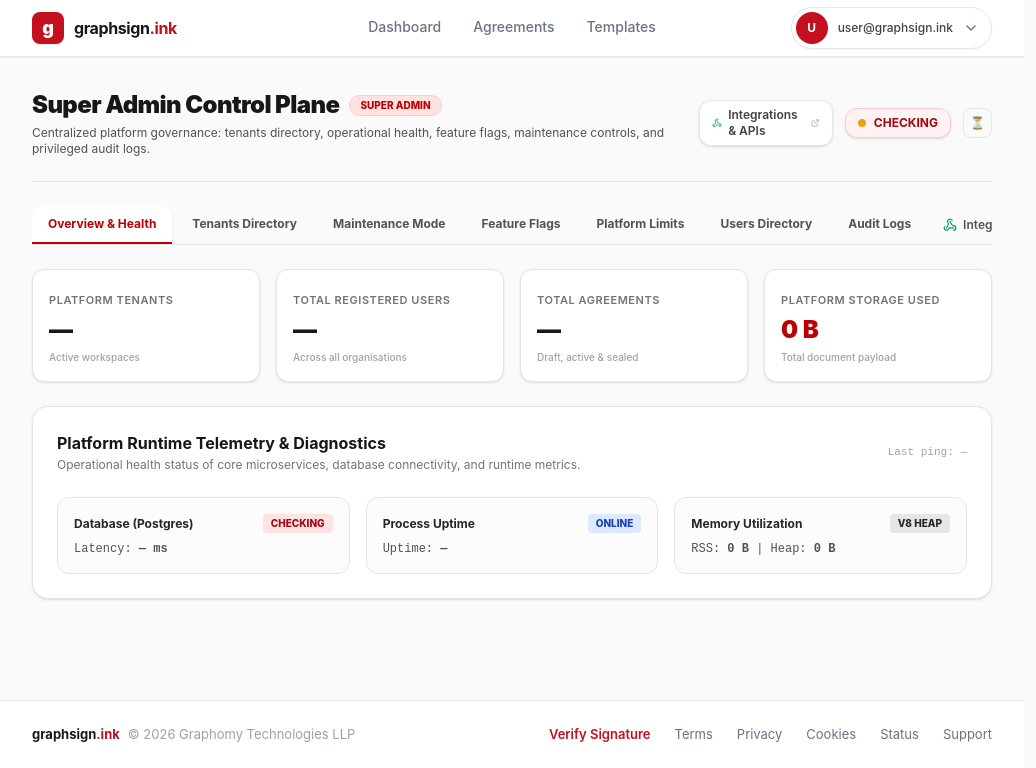
Test: AdminDashboardPage Control Plane Unit Tests (FR-015 / INK-287) › navigates to Maintenance Mode tab and displays control panel
Click the button "Maintenance Mode" at (389, 225), box [317, 206, 462, 244]
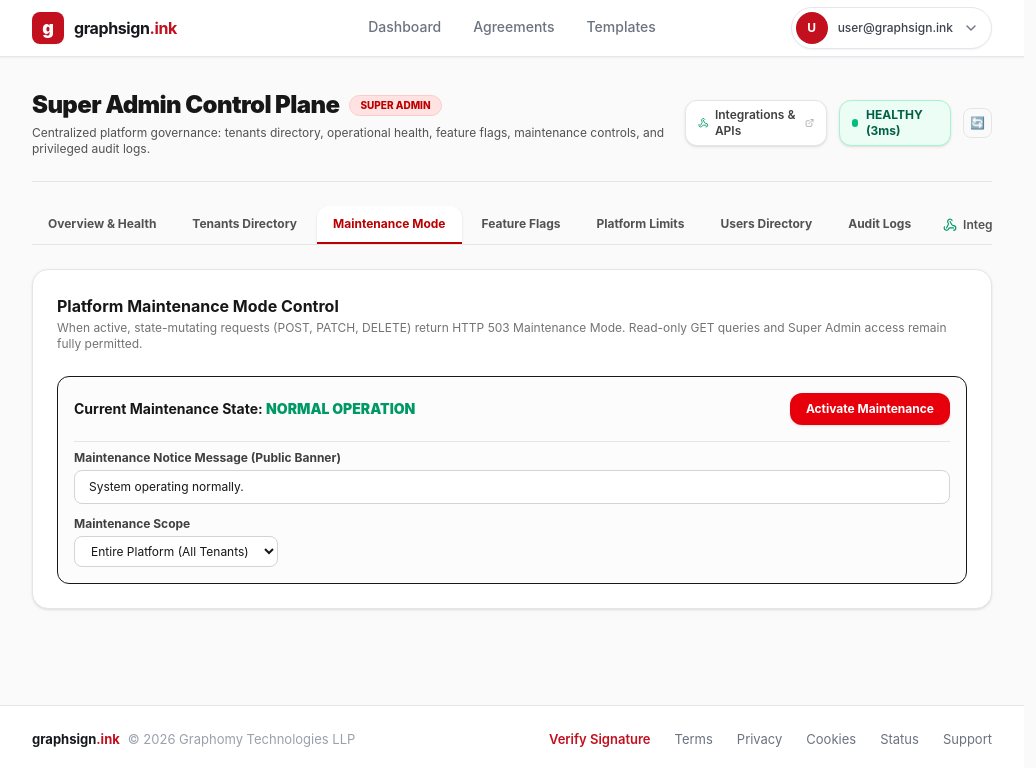
Now the heading "Platform Maintenance Mode Control" is shown, box [57, 296, 339, 316]
Now the text "NORMAL OPERATION" is shown, box [266, 400, 415, 417]
Now the button "Activate Maintenance" is shown, box [790, 393, 950, 425]
